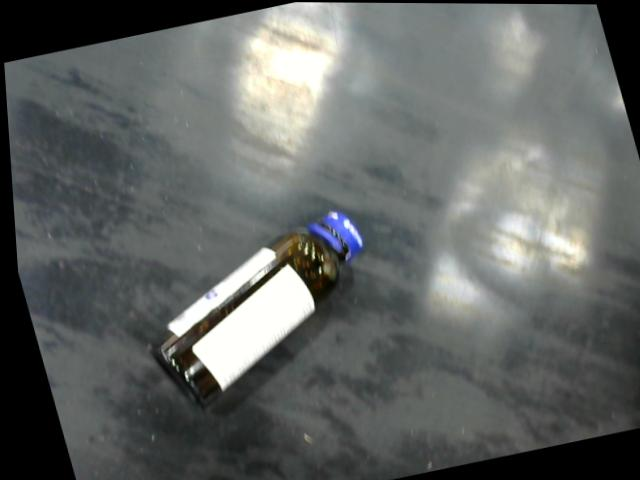glass: (140, 205, 366, 410)
